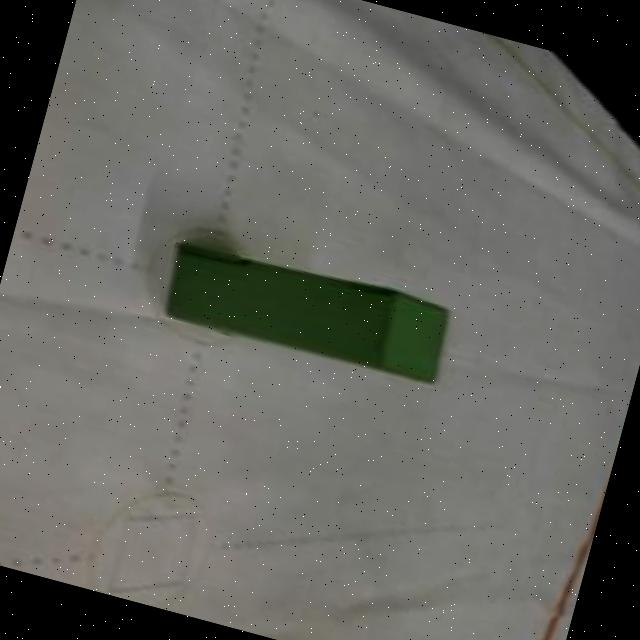greenbox: (158, 230, 459, 396)
